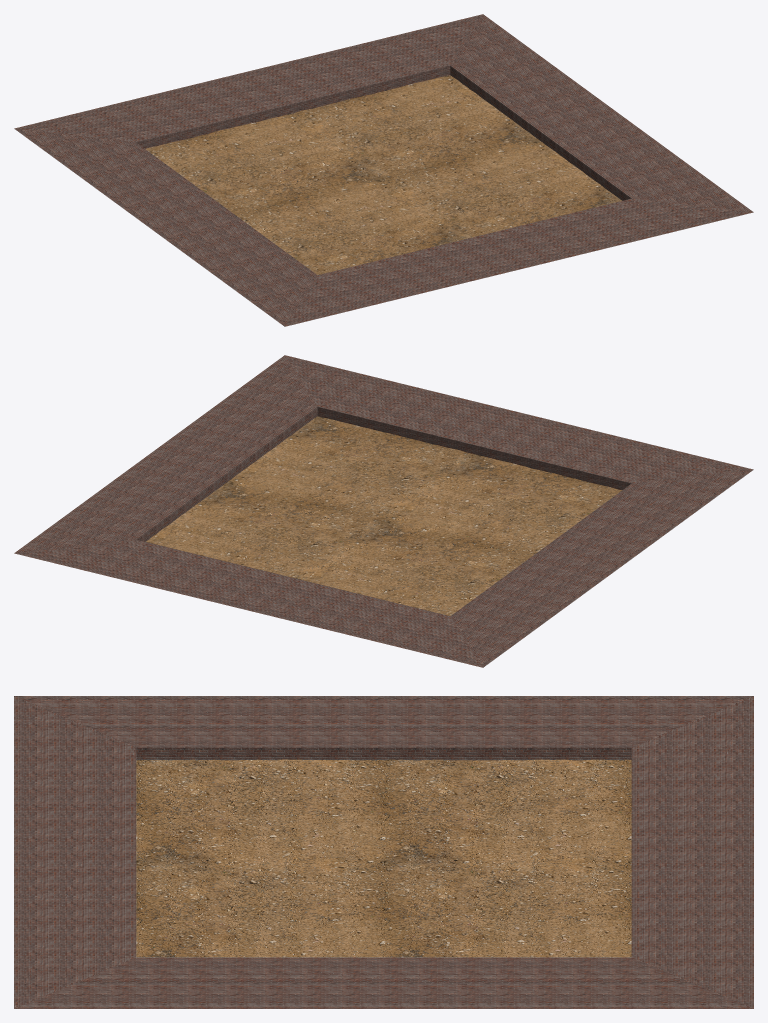
The model's file is Ground.fbx.
3 views of the same model, one above another, from view 1: azimuth 30°, elevation 25°; view 2: azimuth 150°, elevation 25°; view 3: azimuth 270°, elevation 25° (orthographic). The views are drawn at different scales.
Visible parts, largest first — view 1: Plane, Plane.001; view 2: Plane, Plane.001; view 3: Plane, Plane.001.
Boxes of the visible parts, x1,y1,x2,y2 form: Plane: [14, 14, 753, 326]; Plane.001: [145, 75, 621, 275]; Plane: [14, 355, 753, 667]; Plane.001: [146, 416, 622, 616]; Plane: [14, 696, 753, 1008]; Plane.001: [136, 759, 631, 957].
Size of the model in its own units: 11944 by 316 by 11944.
